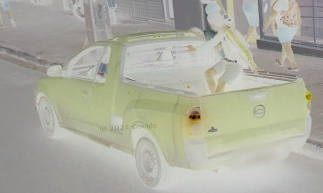car: (34, 30, 313, 189)
